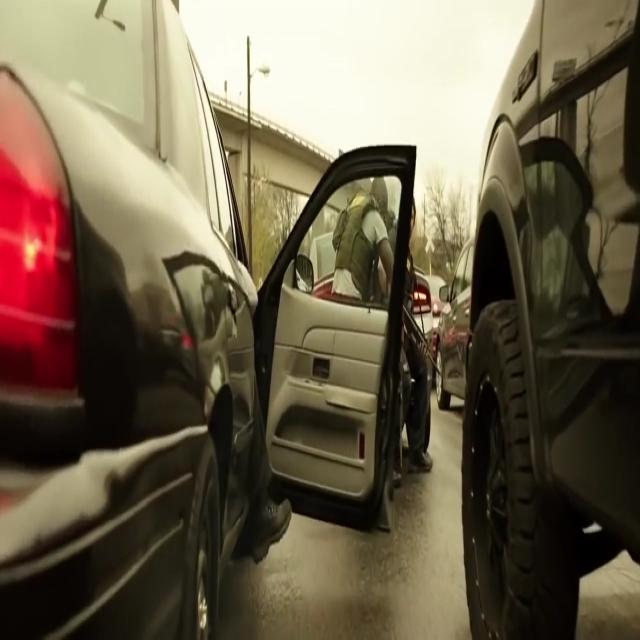Weapon: (396, 276, 458, 418)
